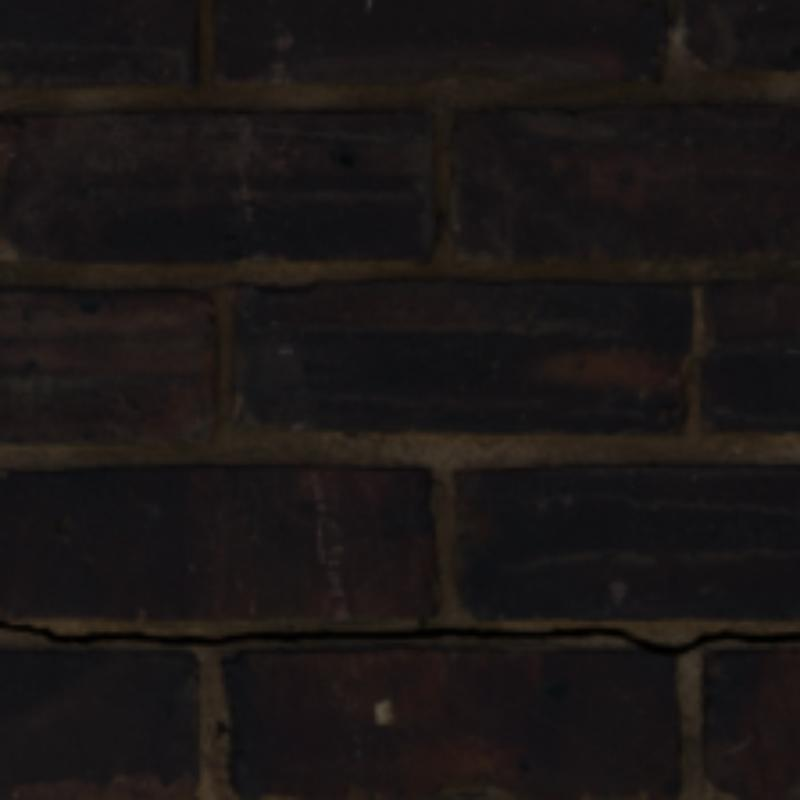pothole: (0, 618, 796, 654)
